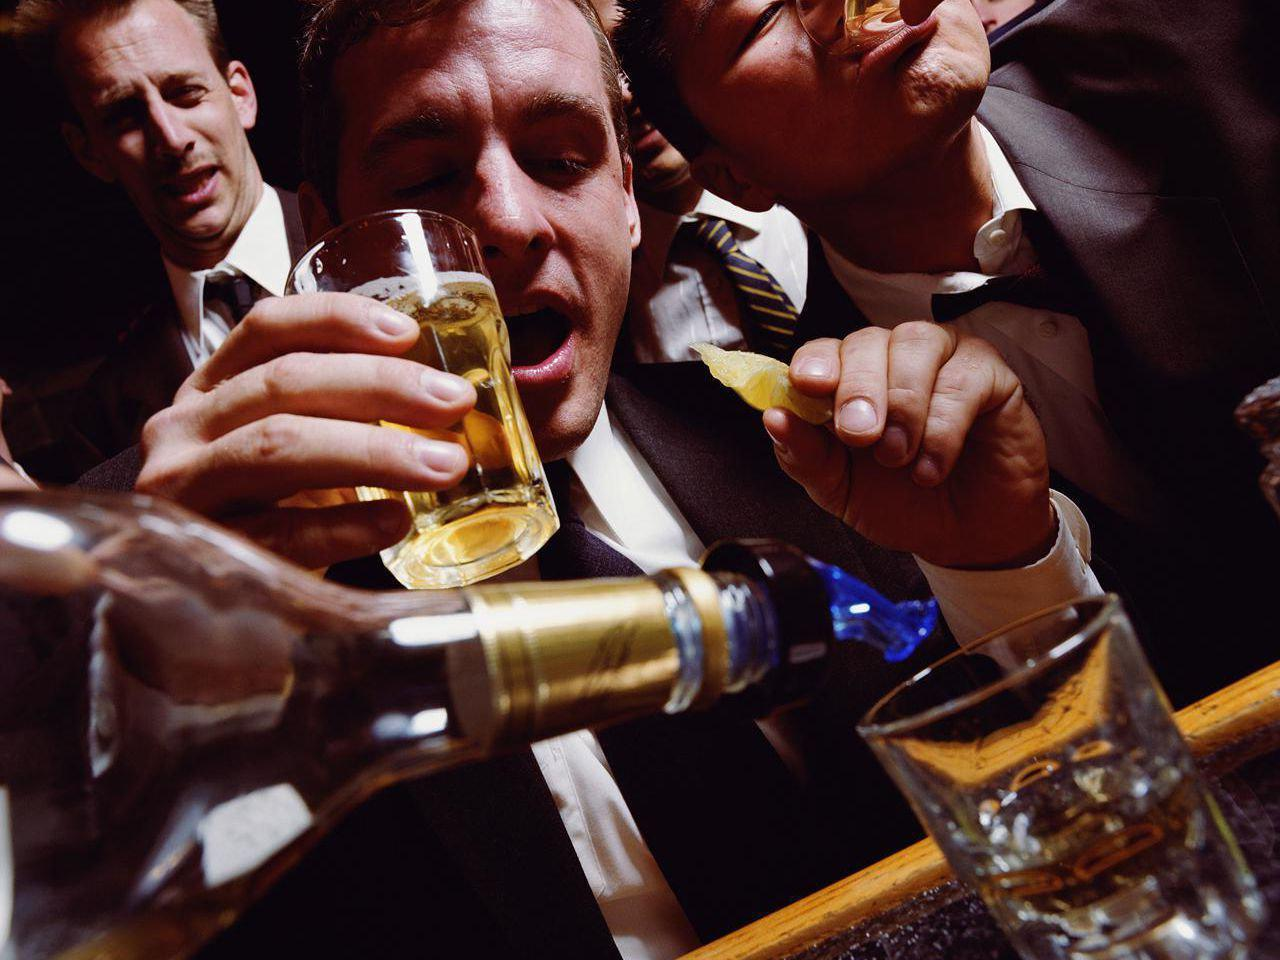Drunk: (341, 28, 638, 438), (81, 12, 249, 244)
